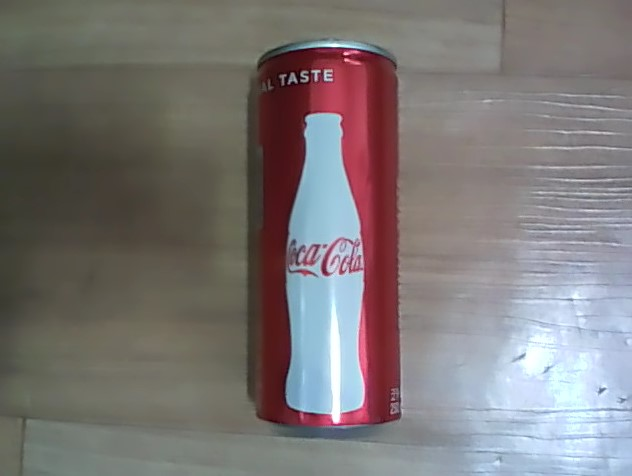Can: (231, 25, 414, 445)
